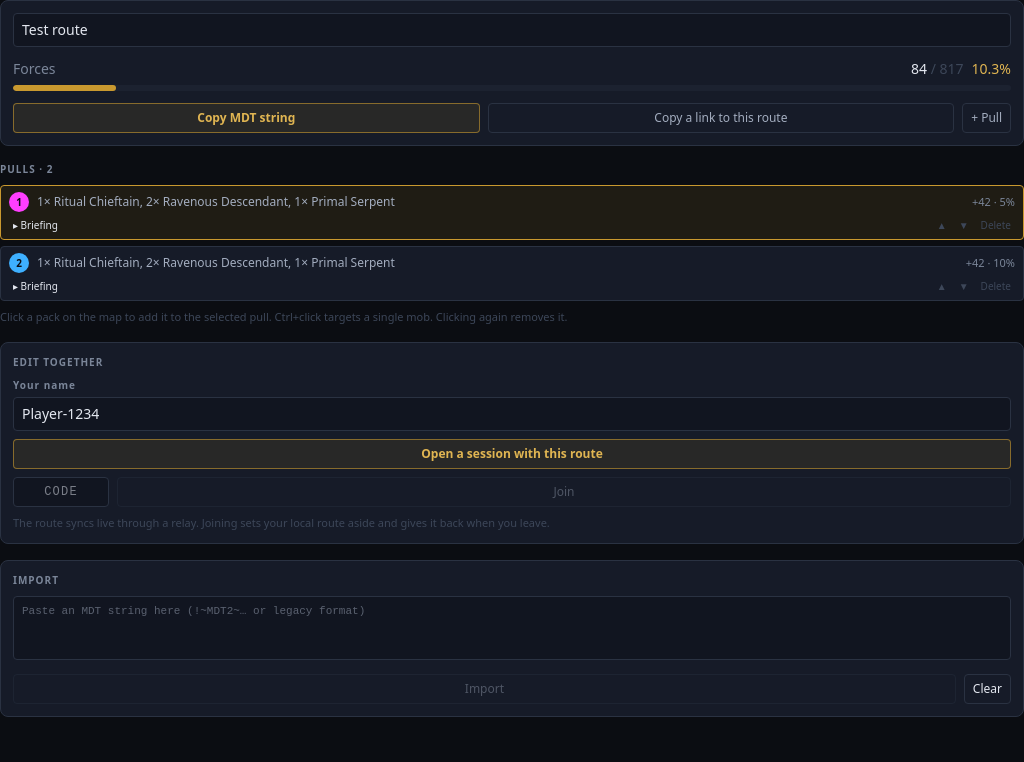
Scenario: Pull briefing › opens on one pull at a time
Click the 1st button "▸ Briefing".
click(35, 226)  # box [9, 218, 62, 233]
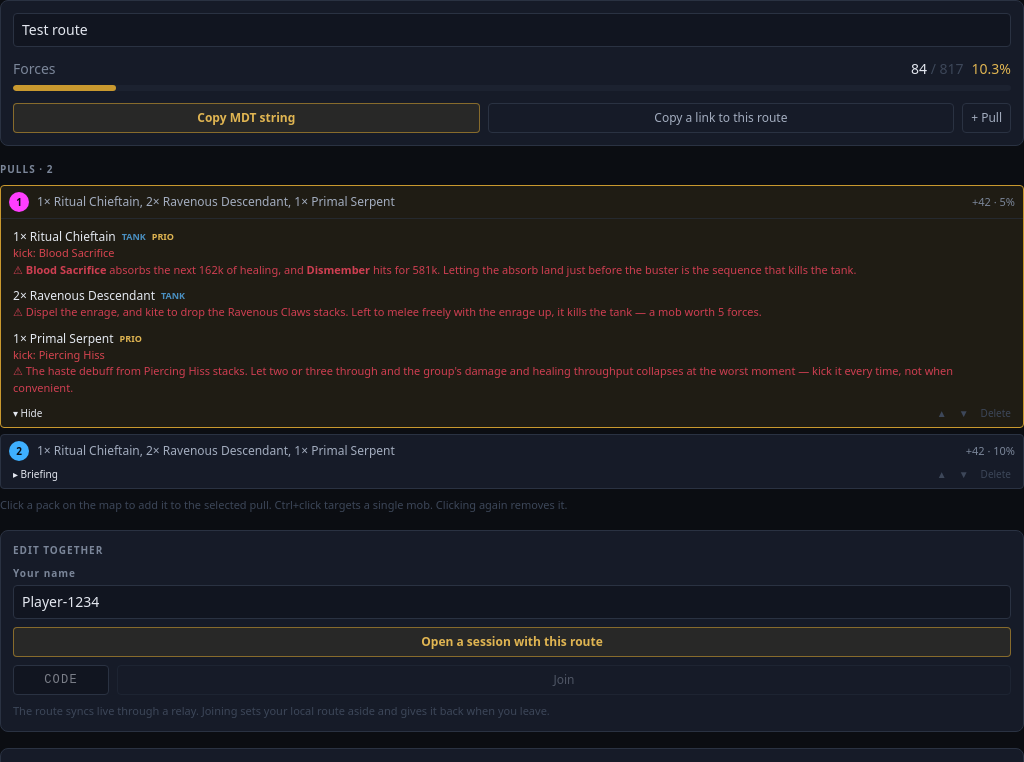
Expected: the number of buttons "▸ Briefing" is 1, [9, 467, 62, 482]
Expected: the text "▾ Hide" is shown, [9, 406, 46, 421]
